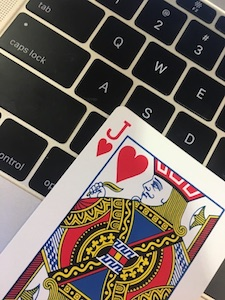JackOfHearts: (2, 103, 225, 297)
